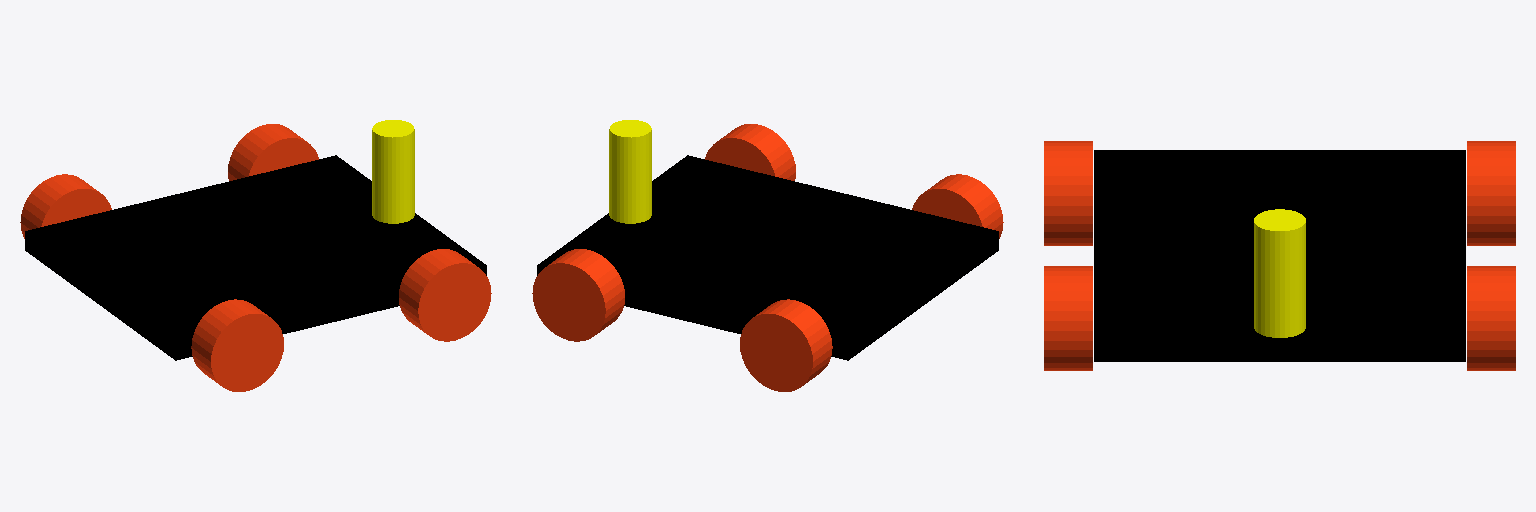
robot.urdf — ugv:
<?xml version="1.0" ?>
<!-- =================================================================================== -->
<!-- |    This document was autogenerated by xacro from [local-path]/ugv_ws/src/ugv_description/urdf/ugv.xacro | -->
<!-- |    EDITING THIS FILE BY HAND IS NOT RECOMMENDED                                 | -->
<!-- =================================================================================== -->
<robot name="ugv">
  <!-- Specify some standard inertial calculations
    https://en.wikipedia.org/wiki/List_of_moments_of_inertia -->
  <!-- These make use of xacro's mathematical functionality -->
  <material name="orange">
    <color rgba="1 0.3 0.1 1"/>
  </material>
  <material name="yellow">
    <color rgba="1 1 0 1"/>
  </material>
  <material name="black">
    <color rgba="0 0 0 1"/>
  </material>
  <link name="base_link">
    <visual>
      <origin rpy="0 0 0" xyz="0 0 0.04"/>
      <geometry>
        <box size="0.34 0.285 0.02"/>
      </geometry>
      <material name="black"/>
    </visual>
    <collision>
      <origin rpy="0 0 0" xyz="0 0 0.04"/>
      <geometry>
        <box size="0.34 0.285 0.02"/>
      </geometry>
    </collision>
    <inertial>
      <origin rpy="0 0 0" xyz="0 0 0.04"/>
      <mass value="1.0"/>
      <inertia ixx="0.006802083333333332" ixy="0.0" ixz="0.0" iyy="0.009666666666666667" iyz="0.0" izz="0.016402083333333334"/>
    </inertial>
  </link>
  <link name="base_footprint"/>
  <joint name="base_footprint_joint" type="fixed">
    <parent link="base_link"/>
    <child link="base_footprint"/>
    <origin rpy="0 0 0" xyz="0 0 0"/>
  </joint>
  <link name="front_right_wheel">
    <visual>
      <origin rpy="1.5707963267948966 0 0" xyz="0 0 0"/>
      <geometry>
        <cylinder length="0.0369" radius="0.04"/>
      </geometry>
      <material name="orange"/>
    </visual>
    <collision>
      <origin rpy="1.5707963267948966 0 0" xyz="0 0 0"/>
      <geometry>
        <cylinder length="0.0369" radius="0.04"/>
      </geometry>
    </collision>
    <inertial>
      <origin rpy="0 0 0" xyz="0 0 0"/>
      <mass value="0.05"/>
      <inertia ixx="2.5673375e-05" ixy="0.0" ixz="0.0" iyy="2.5673375e-05" iyz="0.0" izz="4e-05"/>
    </inertial>
  </link>
  <joint name="front_right_wheel_joint" type="continuous">
    <parent link="base_link"/>
    <child link="front_right_wheel"/>
    <origin xyz="0.11315 -0.16155 0.04"/>
    <axis xyz="0.0 1.0 0.0"/>
  </joint>
  <link name="front_left_wheel">
    <visual>
      <origin rpy="1.5707963267948966 0 0" xyz="0 0 0"/>
      <geometry>
        <cylinder length="0.0369" radius="0.04"/>
      </geometry>
      <material name="orange"/>
    </visual>
    <collision>
      <origin rpy="1.5707963267948966 0 0" xyz="0 0 0"/>
      <geometry>
        <cylinder length="0.0369" radius="0.04"/>
      </geometry>
    </collision>
    <inertial>
      <origin rpy="0 0 0" xyz="0 0 0"/>
      <mass value="0.05"/>
      <inertia ixx="2.5673375e-05" ixy="0.0" ixz="0.0" iyy="2.5673375e-05" iyz="0.0" izz="4e-05"/>
    </inertial>
  </link>
  <joint name="front_left_wheel_joint" type="continuous">
    <parent link="base_link"/>
    <child link="front_left_wheel"/>
    <origin xyz="0.11315 0.16155 0.04"/>
    <axis xyz="0.0 1.0 0.0"/>
  </joint>
  <link name="rear_right_wheel">
    <visual>
      <origin rpy="1.5707963267948966 0 0" xyz="0 0 0"/>
      <geometry>
        <cylinder length="0.0369" radius="0.04"/>
      </geometry>
      <material name="orange"/>
    </visual>
    <collision>
      <origin rpy="1.5707963267948966 0 0" xyz="0 0 0"/>
      <geometry>
        <cylinder length="0.0369" radius="0.04"/>
      </geometry>
    </collision>
    <inertial>
      <origin rpy="0 0 0" xyz="0 0 0"/>
      <mass value="0.05"/>
      <inertia ixx="2.5673375e-05" ixy="0.0" ixz="0.0" iyy="2.5673375e-05" iyz="0.0" izz="4e-05"/>
    </inertial>
  </link>
  <joint name="rear_right_wheel_joint" type="continuous">
    <parent link="base_link"/>
    <child link="rear_right_wheel"/>
    <origin xyz="-0.11315 -0.16155 0.04"/>
    <axis xyz="-0.0 1.0 0.0"/>
  </joint>
  <link name="rear_left_wheel">
    <visual>
      <origin rpy="1.5707963267948966 0 0" xyz="0 0 0"/>
      <geometry>
        <cylinder length="0.0369" radius="0.04"/>
      </geometry>
      <material name="orange"/>
    </visual>
    <collision>
      <origin rpy="1.5707963267948966 0 0" xyz="0 0 0"/>
      <geometry>
        <cylinder length="0.0369" radius="0.04"/>
      </geometry>
    </collision>
    <inertial>
      <origin rpy="0 0 0" xyz="0 0 0"/>
      <mass value="0.05"/>
      <inertia ixx="2.5673375e-05" ixy="0.0" ixz="0.0" iyy="2.5673375e-05" iyz="0.0" izz="4e-05"/>
    </inertial>
  </link>
  <joint name="rear_left_wheel_joint" type="continuous">
    <parent link="base_link"/>
    <child link="rear_left_wheel"/>
    <origin xyz="-0.11315 0.16155 0.04"/>
    <axis xyz="0.0 1.0 0.0"/>
  </joint>
  <link name="lidar_link">
    <visual>
      <origin rpy="0 0 0" xyz="0 0 0"/>
      <geometry>
        <cylinder length="0.1" radius="0.02"/>
      </geometry>
      <material name="yellow"/>
    </visual>
    <collision>
      <origin rpy="0 0 0" xyz="0 0 0"/>
      <geometry>
        <cylinder length="0.1" radius="0.02"/>
      </geometry>
    </collision>
    <inertial>
      <origin rpy="0 0 0" xyz="0 0 0"/>
      <mass value="0.05"/>
      <inertia ixx="4.666666666666667e-05" ixy="0.0" ixz="0.0" iyy="4.666666666666667e-05" iyz="0.0" izz="1e-05"/>
    </inertial>
  </link>
  <joint name="lidar_link_joint" type="fixed">
    <parent link="base_link"/>
    <child link="lidar_link"/>
    <origin rpy="0 0 0" xyz="0.15000000000000002 0 0.09"/>
  </joint>
  <gazebo>
    <plugin filename="gz-sim-sensors-system" name="gz::sim::systems::Sensors">
      <render_engine>ogre2</render_engine>
    </plugin>
  </gazebo>
  <gazebo reference="lidar_link">
    <sensor name="gpu_lidar" type="gpu_lidar">
      &quot;
          
      <pose relative_to="lidar_frame">0 0 0 0 0 0</pose>
      <topic>lidar</topic>
      <update_rate>10</update_rate>
      <ray>
        <scan>
          <horizontal>
            <samples>640</samples>
            <resolution>1</resolution>
            <min_angle>-1.396263</min_angle>
            <max_angle>1.396263</max_angle>
          </horizontal>
          <vertical>
            <samples>1</samples>
            <resolution>0.01</resolution>
            <min_angle>0</min_angle>
            <max_angle>0</max_angle>
          </vertical>
        </scan>
        <range>
          <min>0.08</min>
          <max>10.0</max>
          <resolution>0.01</resolution>
        </range>
      </ray>
      <always_on>1</always_on>
      <visualize>true</visualize>
    </sensor>
  </gazebo>
  <!--        <xacro:include filename="gazebo/imu.xacro"/>-->
</robot>

--- Render facts (derived) ---
3 views of the same robot in one strip: view 1: azimuth 30°, elevation 25°; view 2: azimuth 150°, elevation 25°; view 3: azimuth 270°, elevation 25° (orthographic).
Robot: ugv — 7 links, 6 joints (4 continuous, 2 fixed); root link base_link; default pose: every joint at zero.
Visible links, largest first — view 1: base_link, front_right_wheel, rear_right_wheel, lidar_link, rear_left_wheel, front_left_wheel; view 2: base_link, front_left_wheel, rear_left_wheel, lidar_link, rear_right_wheel, front_right_wheel; view 3: base_link, lidar_link, front_right_wheel, front_left_wheel, rear_right_wheel, rear_left_wheel.
Link boxes in pixels (box(x1,y1,x2,y2)): base_link: box(25, 155, 486, 360); front_right_wheel: box(399, 249, 491, 341); rear_right_wheel: box(191, 299, 283, 391); lidar_link: box(372, 120, 414, 223); rear_left_wheel: box(20, 174, 111, 238); front_left_wheel: box(228, 124, 318, 180); base_link: box(537, 155, 998, 360); front_left_wheel: box(532, 249, 624, 341); rear_left_wheel: box(740, 299, 832, 391); lidar_link: box(609, 120, 651, 223); rear_right_wheel: box(912, 174, 1003, 238); front_right_wheel: box(705, 124, 795, 180); base_link: box(1094, 150, 1465, 361); lidar_link: box(1254, 209, 1305, 337); front_right_wheel: box(1044, 266, 1092, 370); front_left_wheel: box(1467, 266, 1515, 370); rear_right_wheel: box(1044, 141, 1092, 245); rear_left_wheel: box(1467, 141, 1515, 245).
Bounding box of the posed robot: 0.34 × 0.36 × 0.14 m (x, y, z).
Geometry: primitives only (box / cylinder / sphere), no mesh files.